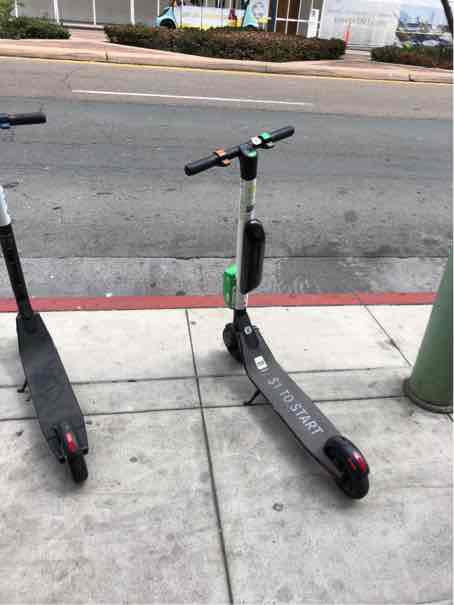scooter: (192, 123, 376, 507)
